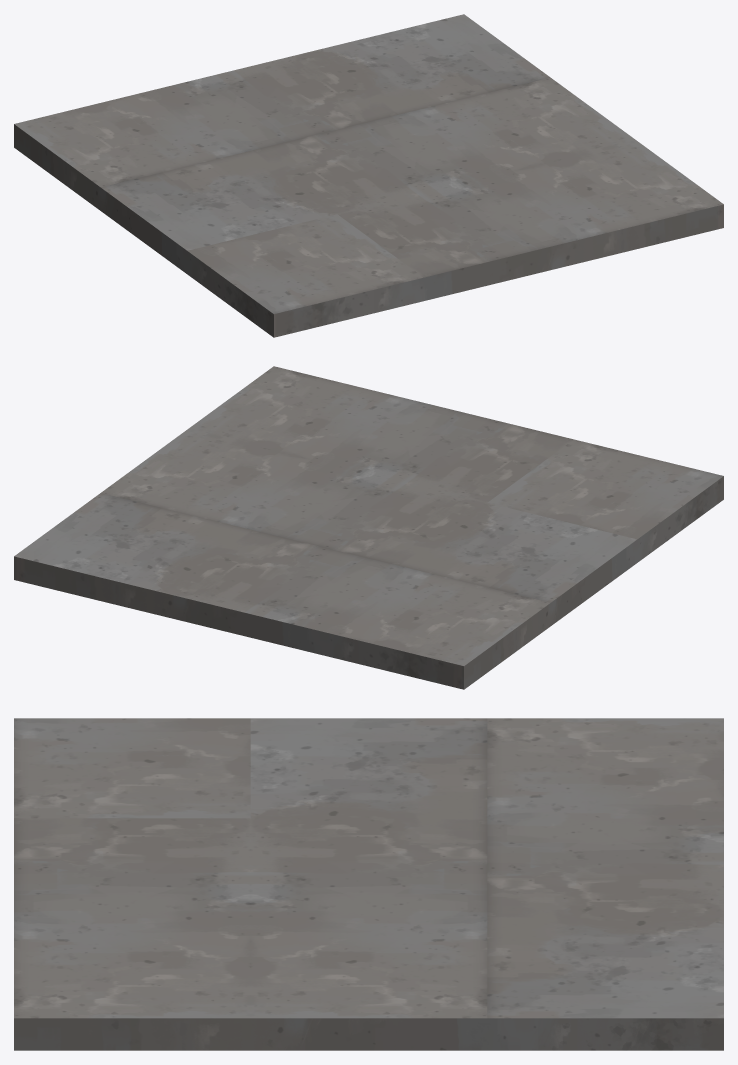
File: S_SidewalkNoCurb3m.gltf
3 views of the same model, one above another, from view 1: azimuth 30°, elevation 25°; view 2: azimuth 150°, elevation 25°; view 3: azimuth 270°, elevation 25° (orthographic). The views are drawn at different scales.
Parts seen in each view (by area): view 1: Cube_002-col; view 2: Cube_002-col; view 3: Cube_002-col.
Boxes of the visible parts, x1,y1,x2,y2 form: Cube_002-col: [14, 14, 723, 337]; Cube_002-col: [14, 366, 723, 689]; Cube_002-col: [14, 718, 723, 1050].
Bounding box in the file's own units: 3 × 0.15 × 3.
Materials: 1 (1 with a texture image).
